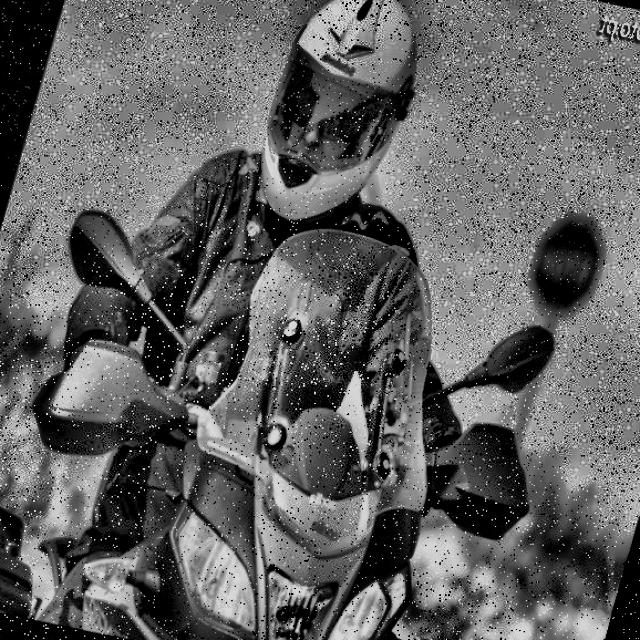Helmet: (236, 0, 448, 250)
